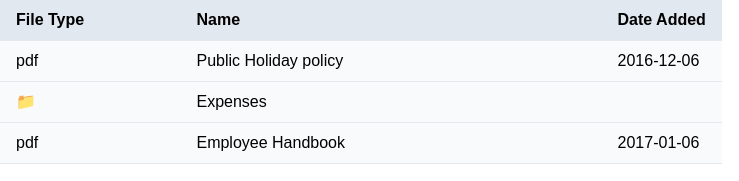
FileExplorer › Sorting › Should sort by name when 'name' heading is clicked
The width and height of the screenshot is (739, 181).
Click the column heading "Name" at (218,20), box left=180, top=0, right=602, bottom=40
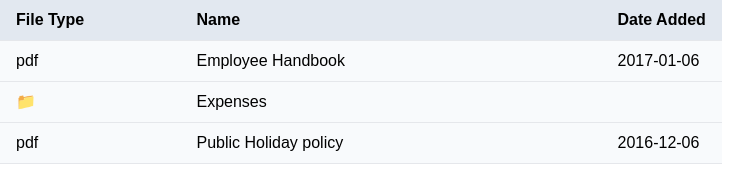
Check: the cell "Employee Handbook" is shown, box left=180, top=40, right=602, bottom=82
